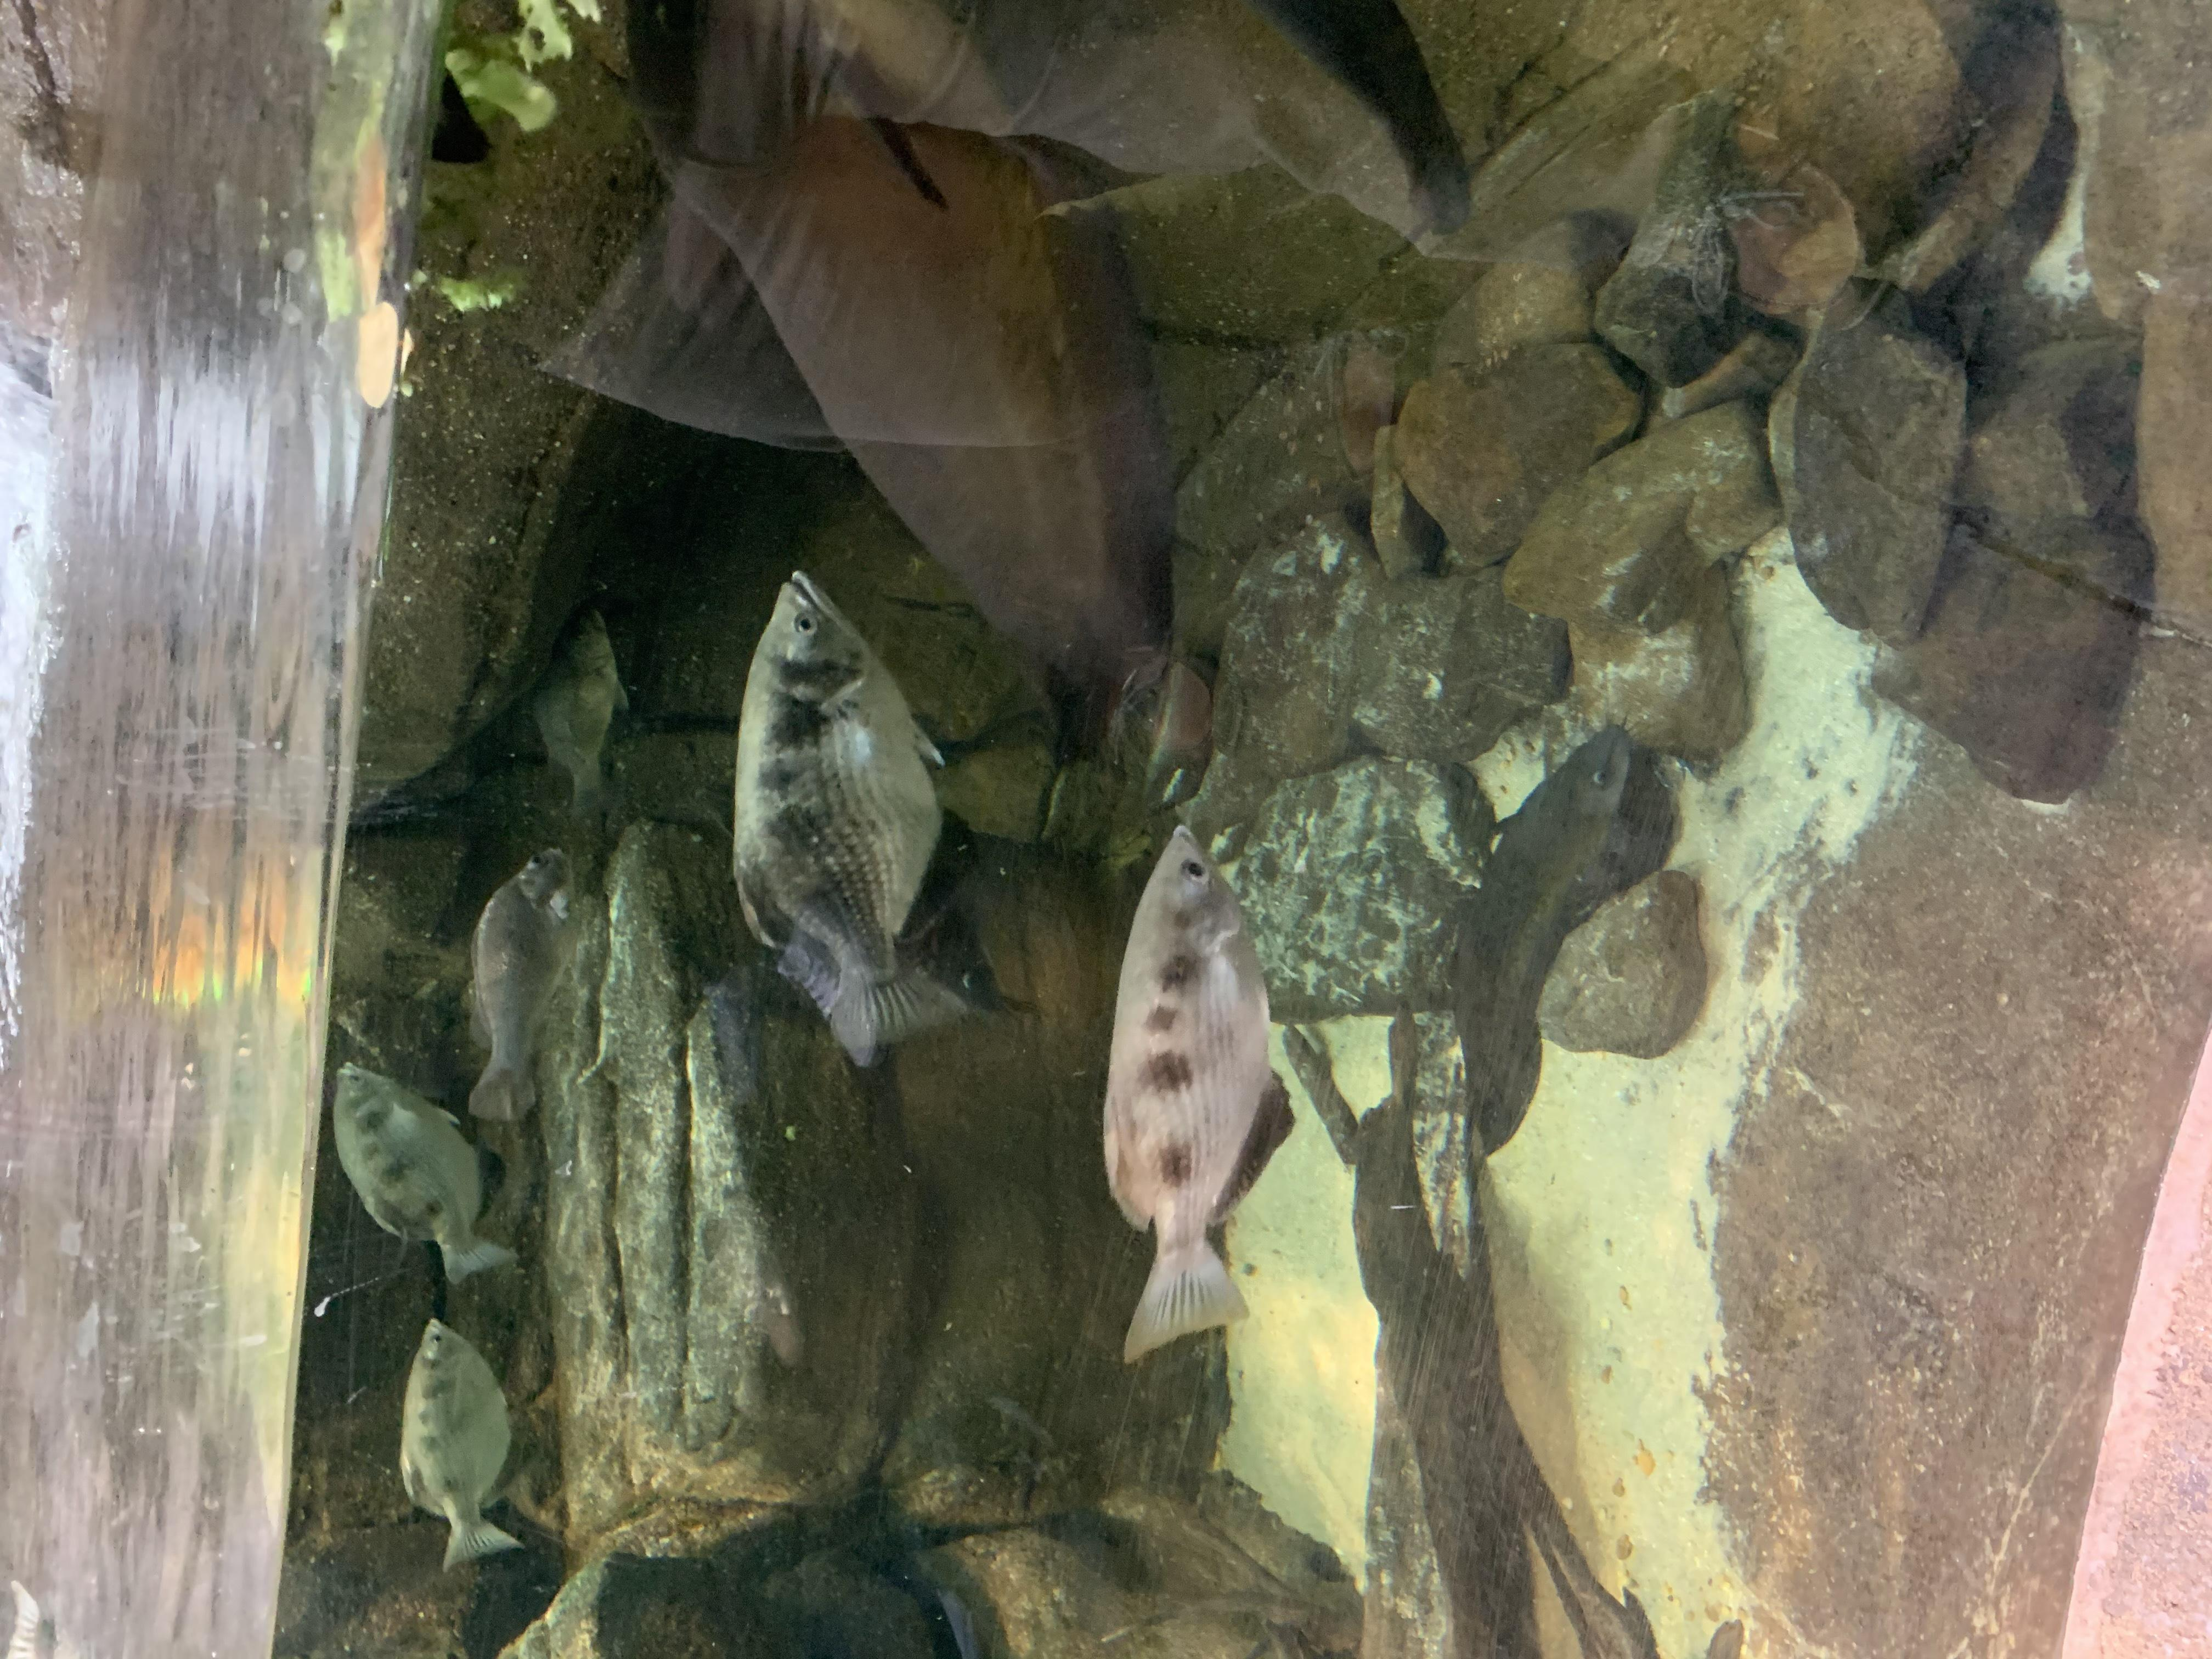fish: (723, 563, 981, 1068), (1096, 819, 1285, 1371), (326, 1058, 517, 1293), (394, 1310, 529, 1581), (462, 845, 587, 1129)
